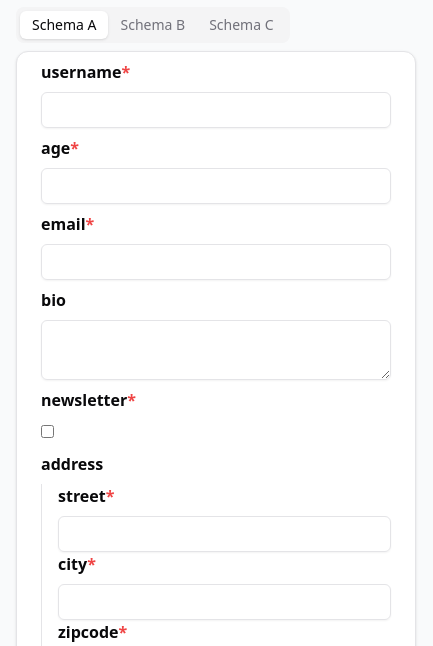
Test case: template spec › Negative test Schema C
expect the tab "Schema A" is shown: met, box [20,11,108,39]
expect the tab "Schema B" is shown: met, box [108,11,197,39]
Click the tab "Schema C" at (241, 25), box [197,11,285,39]
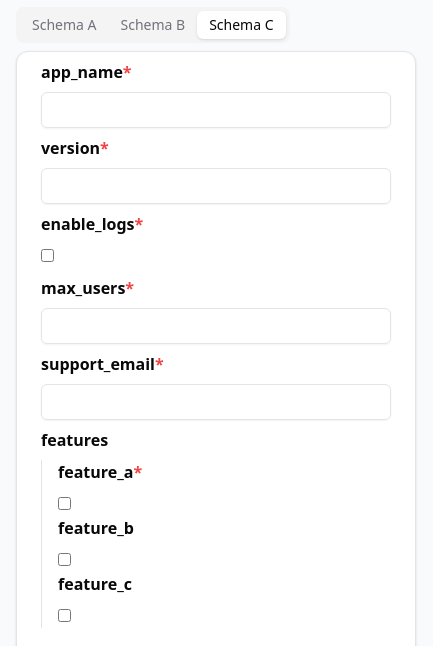
Click the 2nd checkbox at (65, 504), box [58,497,71,510]
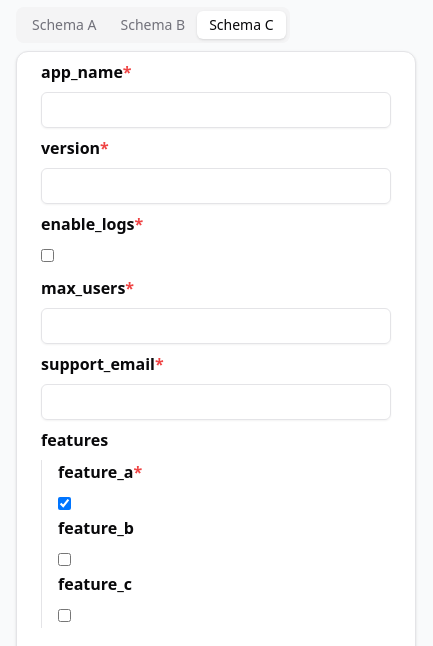
Click the 3rd checkbox at (65, 560), box [58,553,71,566]
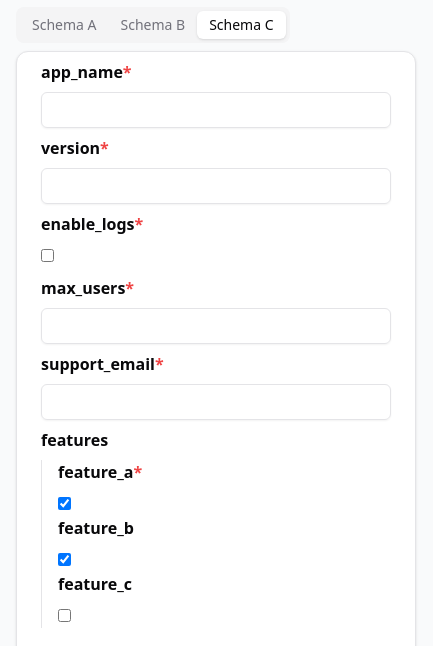
Click the 4th checkbox at (65, 616), box [58,609,71,622]
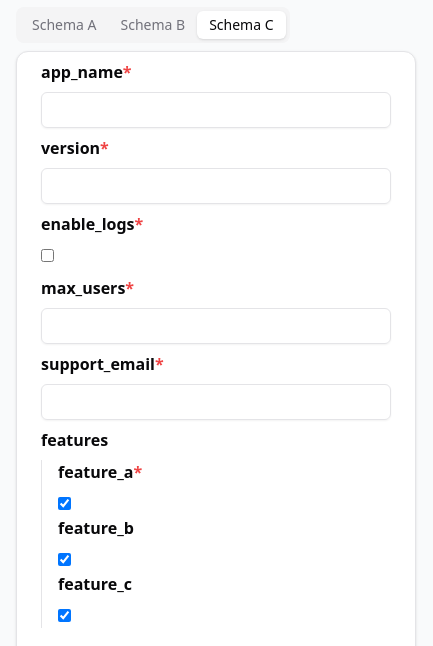
Scroll
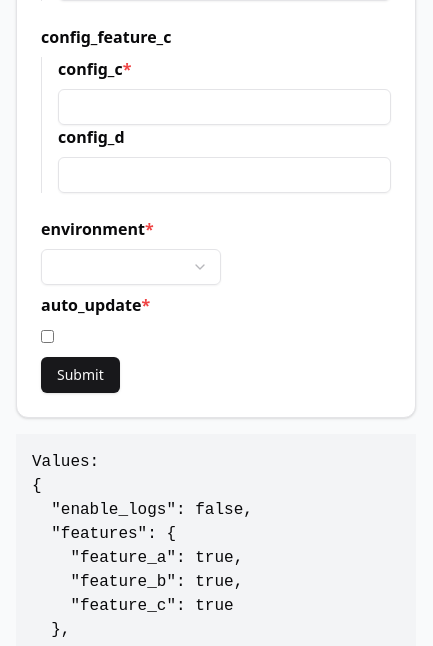
Click the button "Submit" at (81, 375), box [41,357,120,393]
(page scrolled)
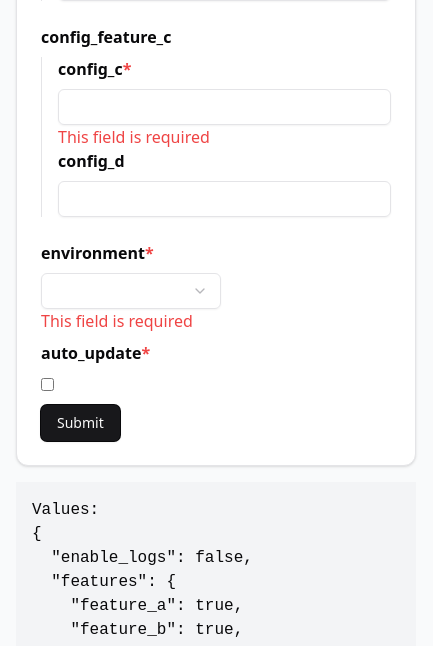
expect the 1st text "This field is required" is shown: met, box [58,126,210,148]
expect the 2nd text "This field is required" is shown: met, box [41,310,193,332]
